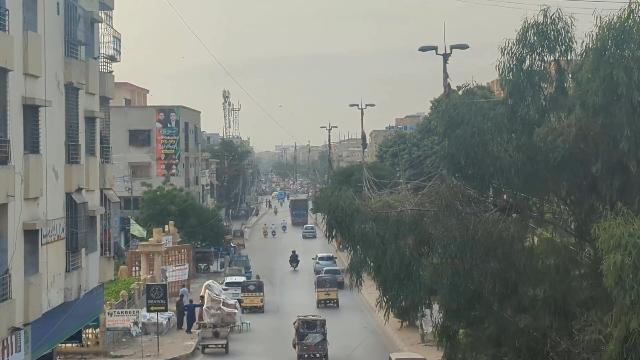Car: (220, 275, 244, 300), (312, 253, 338, 274), (323, 266, 344, 284)
Cart: (197, 325, 232, 354)
Person: (183, 298, 197, 334), (173, 293, 185, 330), (195, 293, 205, 321), (180, 284, 189, 299)
Rickshaw: (292, 312, 330, 360), (313, 274, 340, 308), (240, 279, 266, 312)
